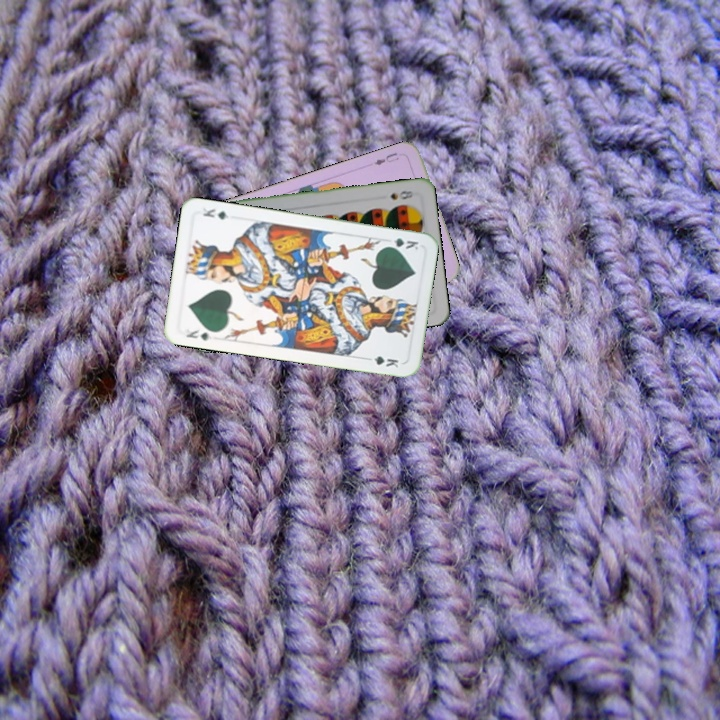EU: (370, 148, 402, 168)
GK: (381, 234, 421, 252), (182, 325, 215, 343)
S8: (387, 187, 419, 202)
